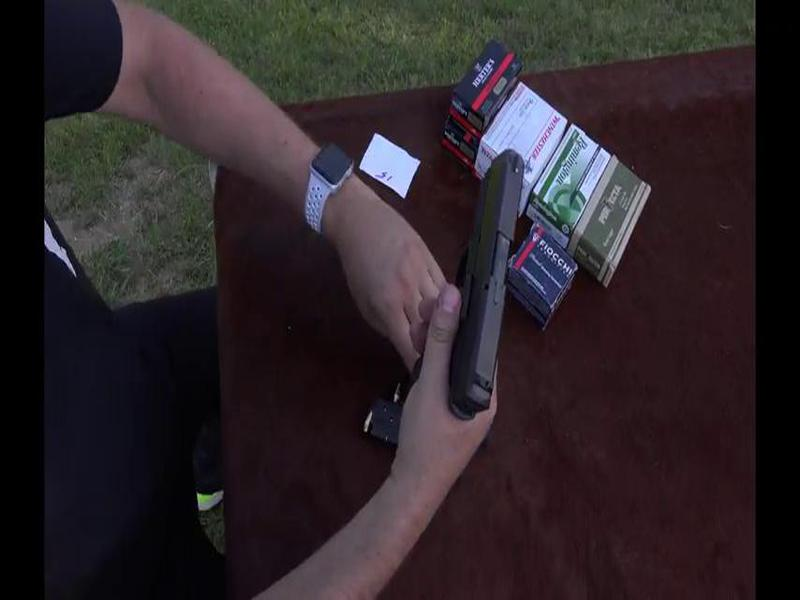Pistola: (392, 147, 541, 434)
